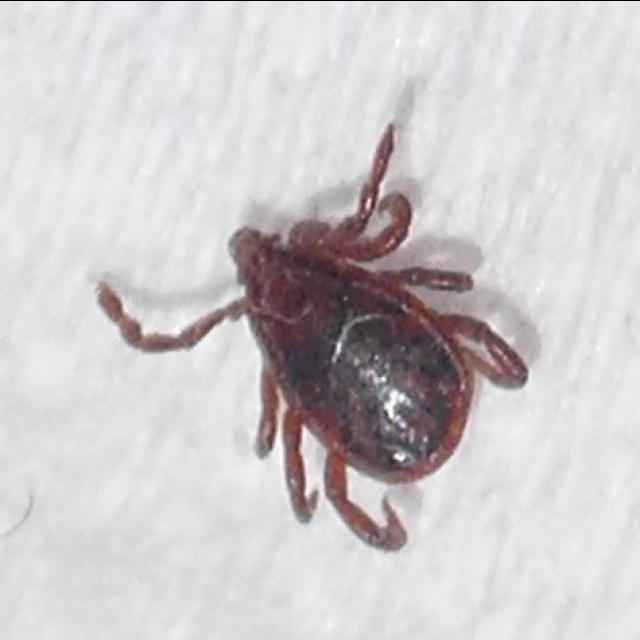Rhipicephalus Sanguineus-M: (94, 120, 528, 553)
